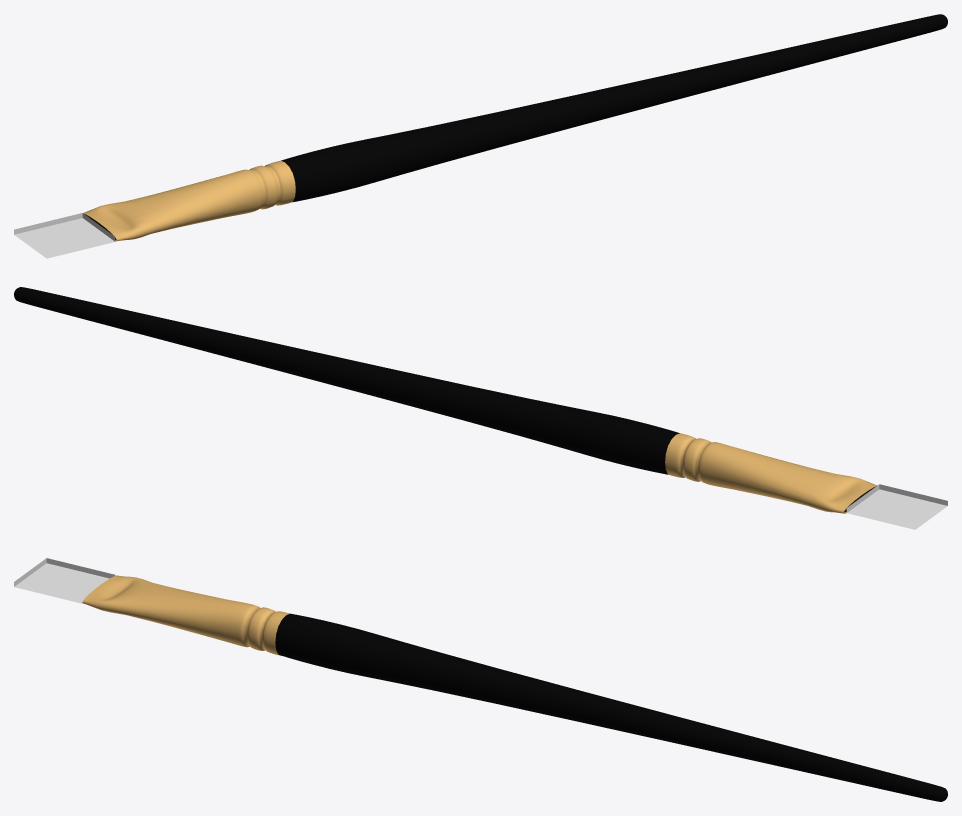
The model's file is brush2.glb.
The picture shows the model from 3 angles, top to bottom: view 1: azimuth 30°, elevation 25°; view 2: azimuth 150°, elevation 25°; view 3: azimuth 330°, elevation 25°; orthographic projection.
Visible parts, largest first — view 1: 18 flat brush, Cube.001, Plane; view 2: 18 flat brush, Cube.001, Plane; view 3: 18 flat brush, Cube.001, Plane.
Boxes of the visible parts, bbox=[...] form: 18 flat brush: bbox=[281, 14, 947, 202]; Cube.001: bbox=[83, 160, 295, 241]; Plane: bbox=[14, 213, 115, 258]; 18 flat brush: bbox=[14, 287, 679, 474]; Cube.001: bbox=[665, 433, 877, 513]; Plane: bbox=[846, 484, 947, 529]; 18 flat brush: bbox=[275, 613, 947, 801]; Cube.001: bbox=[82, 575, 289, 655]; Plane: bbox=[14, 558, 115, 603].
Size of the model in its own units: 2.44 by 0.1048 by 0.1702.
